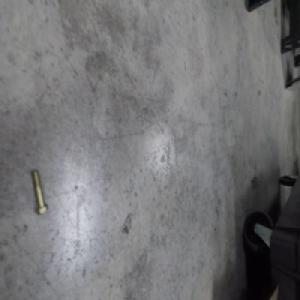Bolt: (29, 167, 47, 215)
